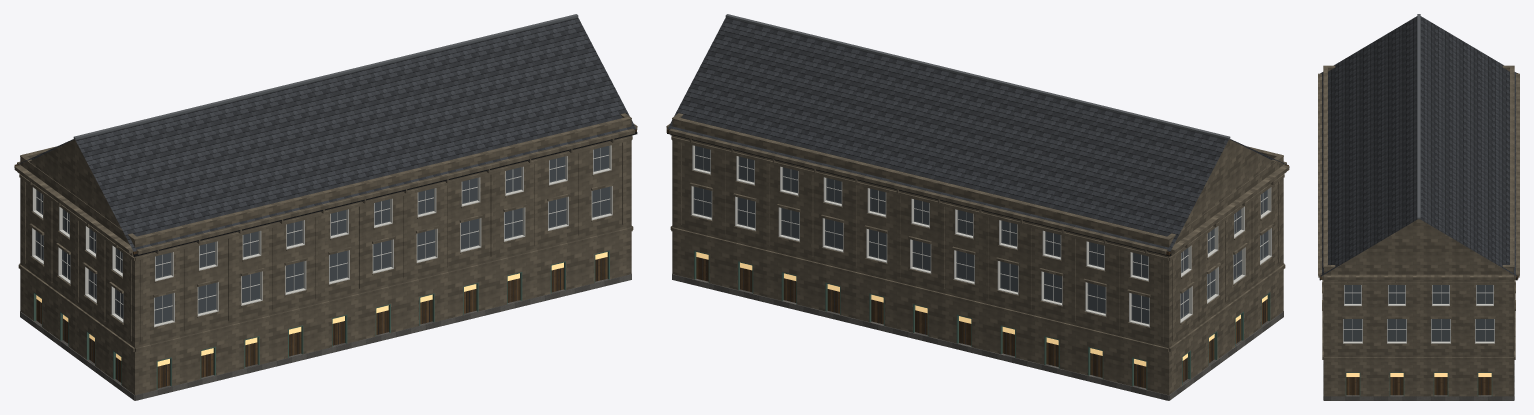
The model's file is B_offices.glb.
3 renders of one model, left to right at view 1: azimuth 30°, elevation 25°; view 2: azimuth 150°, elevation 25°; view 3: azimuth 270°, elevation 25°, orthographic. The views are drawn at different scales.
Parts seen in each view (by area): view 1: B_offices; view 2: B_offices; view 3: B_offices.
Boxes of the visible parts, box(x1,y1,x2,y2) form: B_offices: box(14, 14, 637, 400); B_offices: box(666, 14, 1289, 400); B_offices: box(1318, 14, 1519, 400).
Size of the model in its own units: 40.98 by 17.11 by 16.98.
14 materials, 7 textured.
